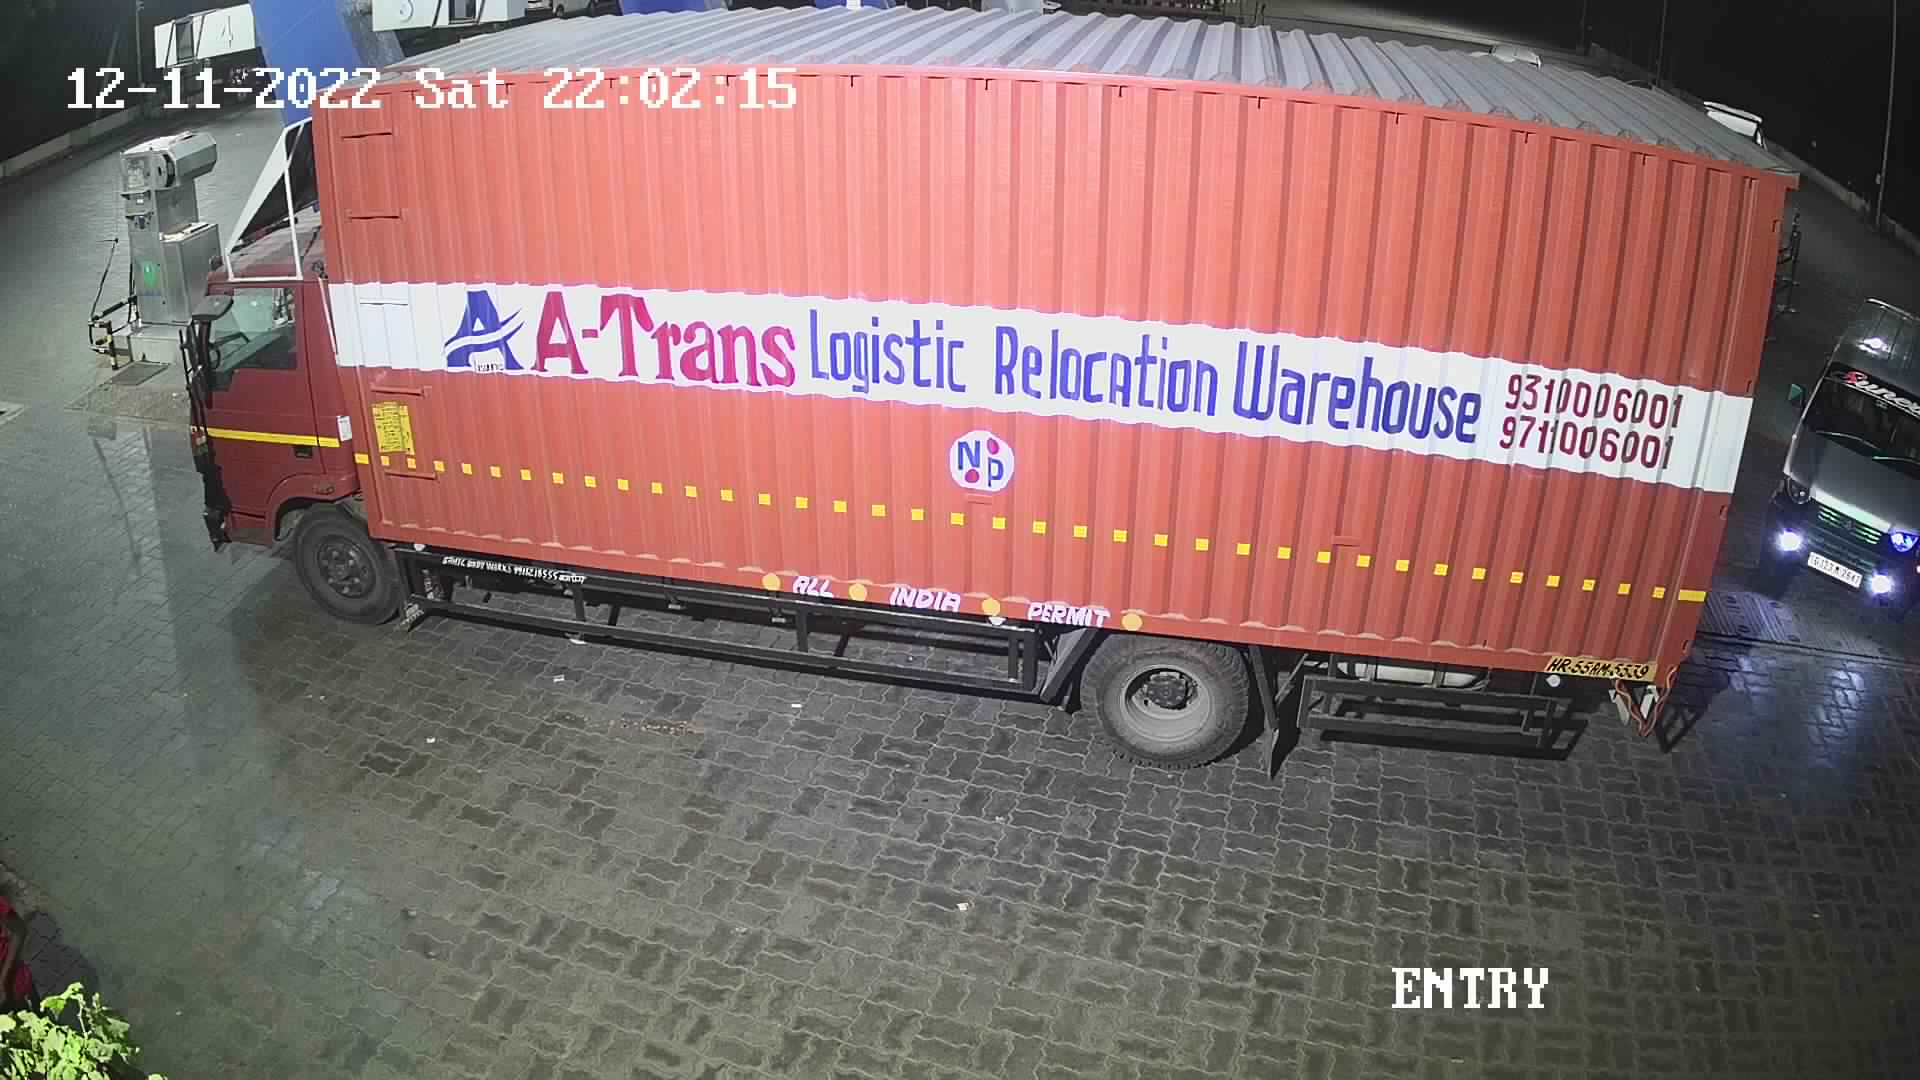Car: (1742, 278, 1917, 626)
HMV: (164, 0, 1815, 779)
